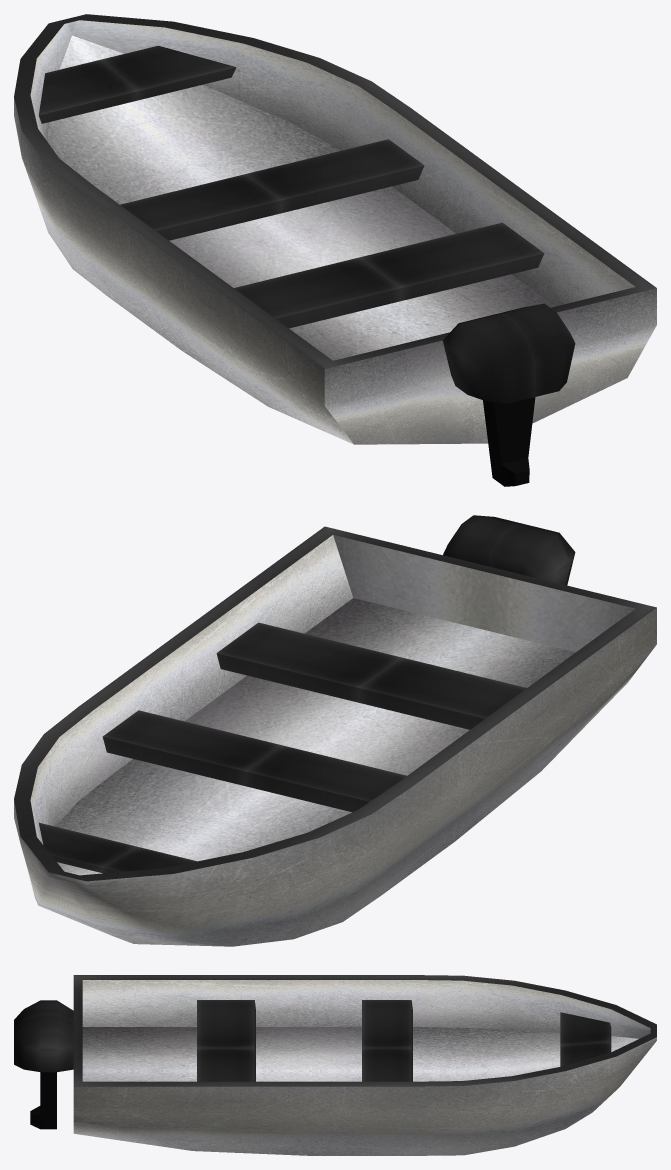
Rendered from boat.glb.
3 renders of one model, top to bottom at view 1: azimuth 30°, elevation 25°; view 2: azimuth 150°, elevation 25°; view 3: azimuth 270°, elevation 25°, orthographic. The views are drawn at different scales.
Visible parts, largest first — view 1: Cube; view 2: Cube; view 3: Cube.
Part boxes in pixels (x1,y1,x2,y2): Cube: (14,14,656,486); Cube: (14,515,656,946); Cube: (14,975,656,1155).
Size of the model in its own units: 2.23 by 1.15 by 5.42.
Materials: 1 (1 with a texture image).
